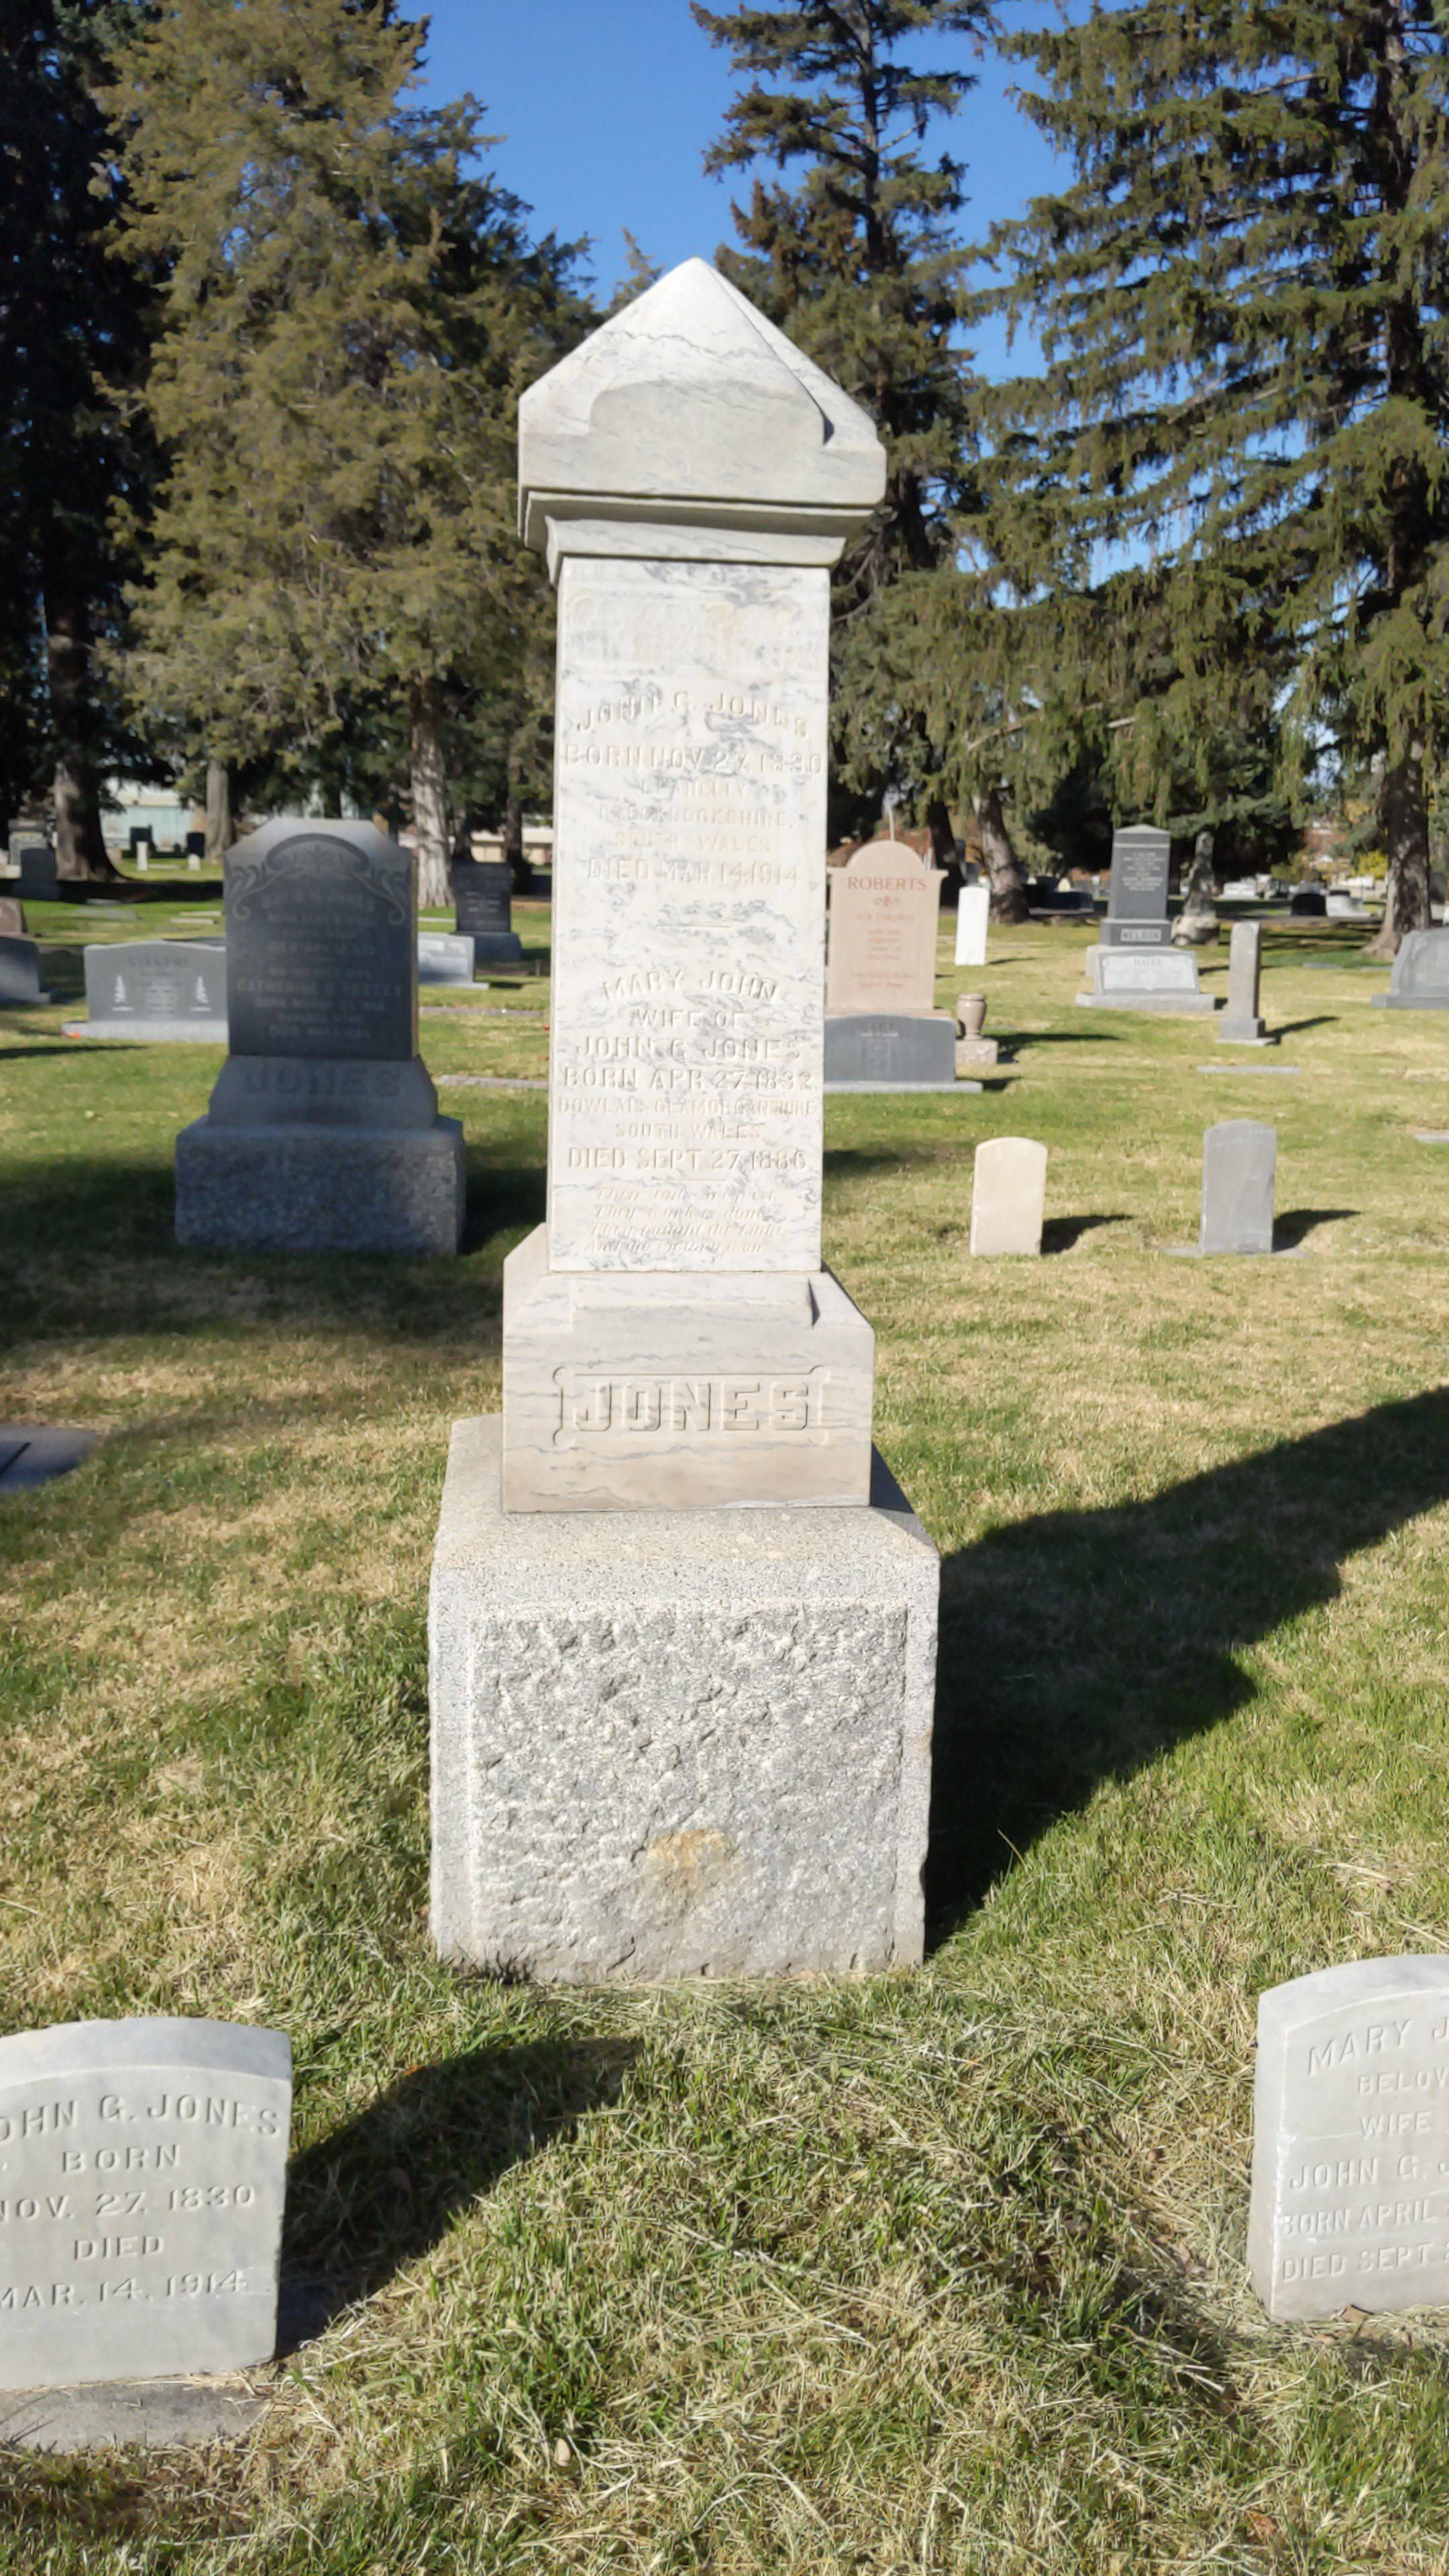obelisk: (487, 260, 879, 1523)
